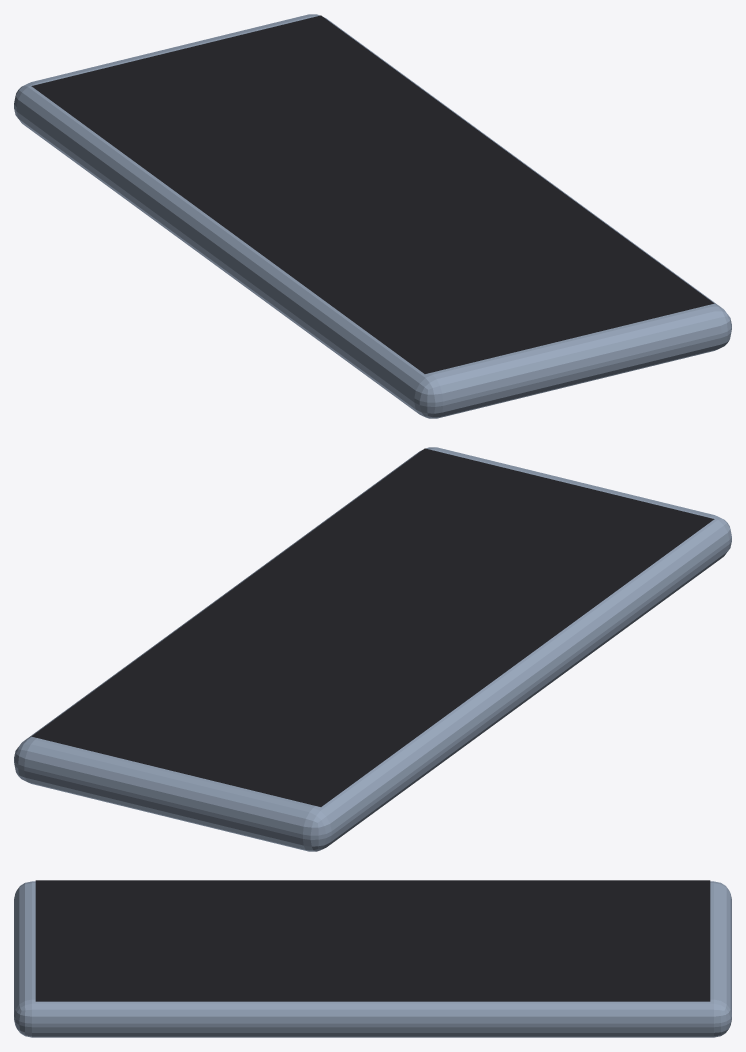
Rendered from Phone_243.glb.
The picture shows the model from 3 angles, top to bottom: view 1: azimuth 30°, elevation 25°; view 2: azimuth 150°, elevation 25°; view 3: azimuth 270°, elevation 25°; orthographic projection. The views are drawn at different scales.
Parts seen in each view (by area): view 1: Phone_Screen, Phone_Body; view 2: Phone_Screen, Phone_Body; view 3: Phone_Screen, Phone_Body.
Boxes of the visible parts, x1,y1,x2,y2 form: Phone_Screen: (31, 15, 714, 373); Phone_Body: (14, 14, 731, 418); Phone_Screen: (31, 448, 714, 806); Phone_Body: (14, 447, 731, 851); Phone_Screen: (35, 880, 710, 1001); Phone_Body: (14, 881, 731, 1037).
Size of the model in its own units: 0.0723 by 0.0094 by 0.1665.
